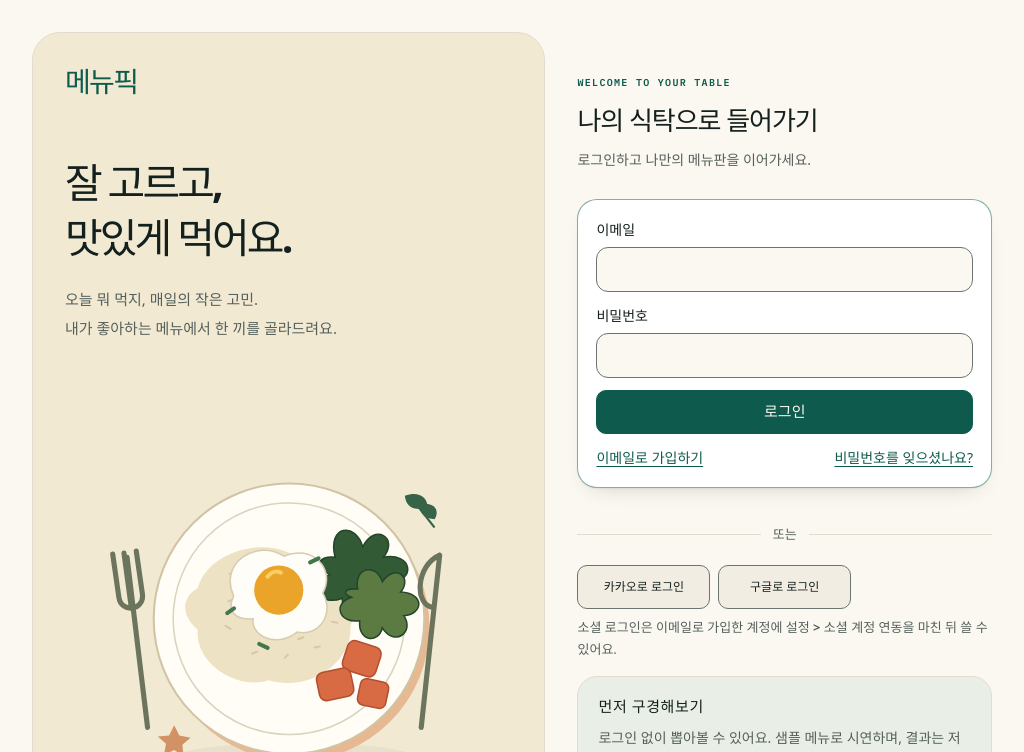
Test: LoginPage 제출 버튼 › 이메일만 채우고 누르면 비밀번호 칸으로 초점이 간다
This screenshot has width=1024, height=752.
Type "a@b.com" into the field labelled "이메일". click: (785, 269)
box: [596,247,973,292]
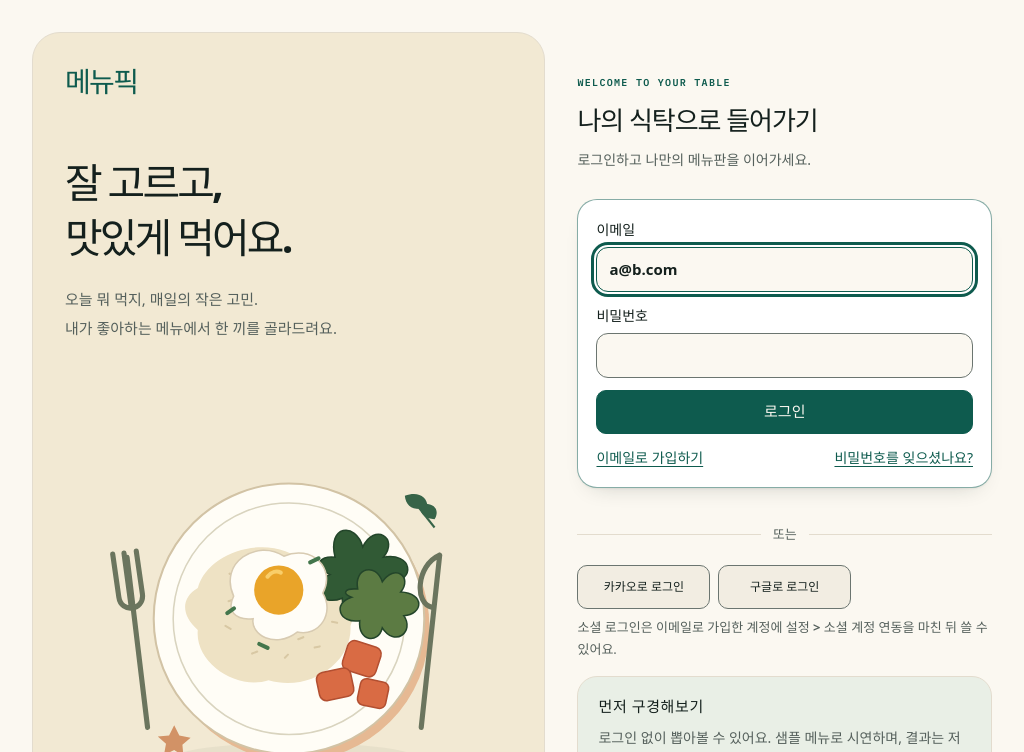
Click the button "로그인". click: (785, 412)
box: [596,390,973,434]
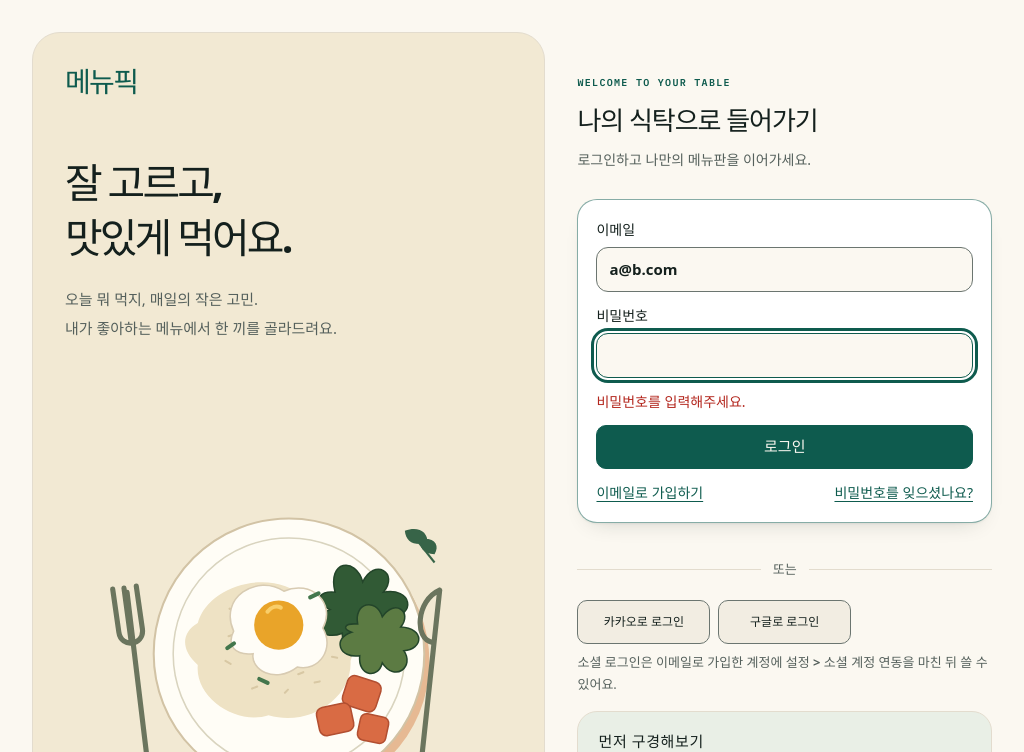
Now the message reads "비밀번호를 입력해주세요.", box [596,392,746,411]
